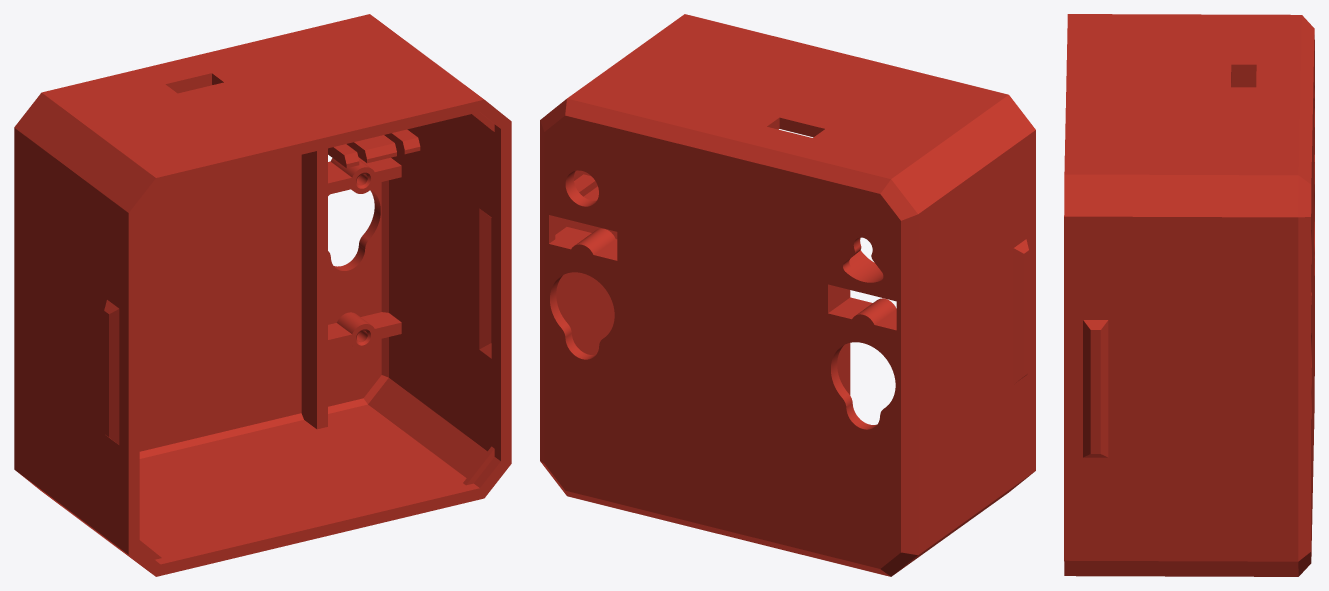
File: Body v1.obj
3 views of the same model, side by side, from view 1: azimuth 30°, elevation 25°; view 2: azimuth 150°, elevation 25°; view 3: azimuth 270°, elevation 25° (orthographic).
Visible parts, largest first — view 1: Body14; view 2: Body14; view 3: Body14.
Part boxes in pixels (x1,y1,x2,y2): Body14: (14,14,511,576); Body14: (540,14,1035,576); Body14: (1064,14,1314,576).
Bounding box in the file's own units: 72.41 × 70 × 39.6.
